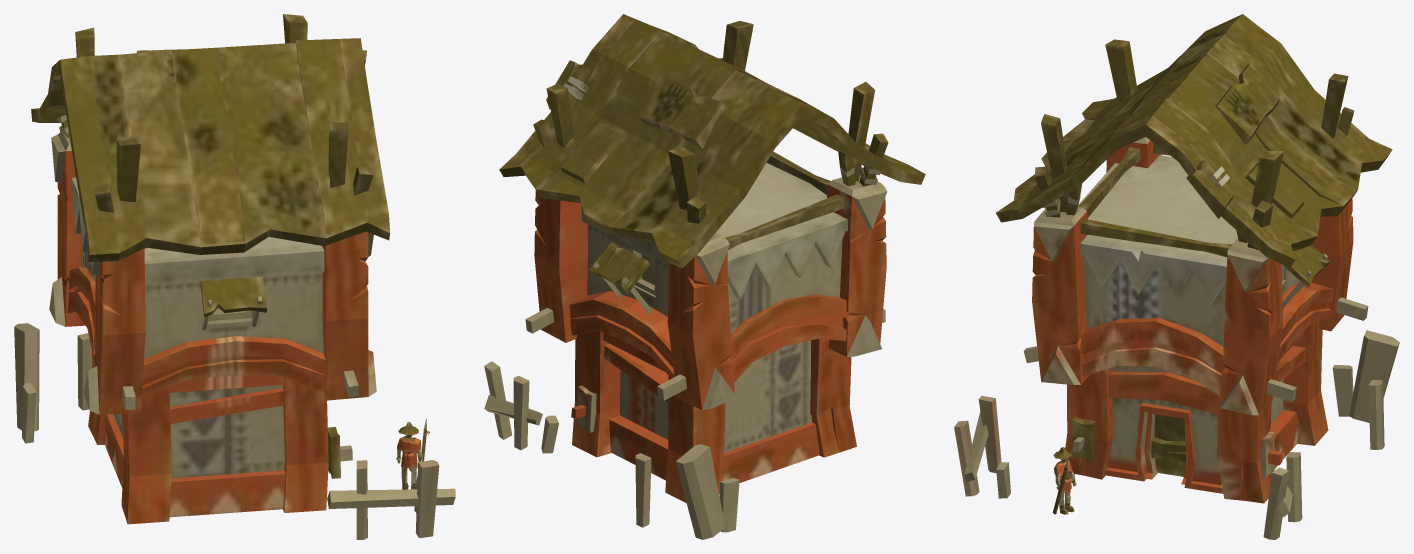
The model's file is fantasy_house_round_mushroom.glb.
3 renders of one model, left to right at view 1: azimuth 30°, elevation 25°; view 2: azimuth 150°, elevation 25°; view 3: azimuth 270°, elevation 25°, orthographic. The views are drawn at different scales.
Visible parts, largest first — view 1: Object_12; view 2: Object_12; view 3: Object_12.
Part boxes in pixels (bbox=[...]): Object_12: bbox=[14, 14, 455, 539]; Object_12: bbox=[484, 14, 925, 539]; Object_12: bbox=[954, 14, 1399, 539].
Size of the model in its own units: 5.01 by 5.47 by 5.62.
4 materials, 4 textured.
